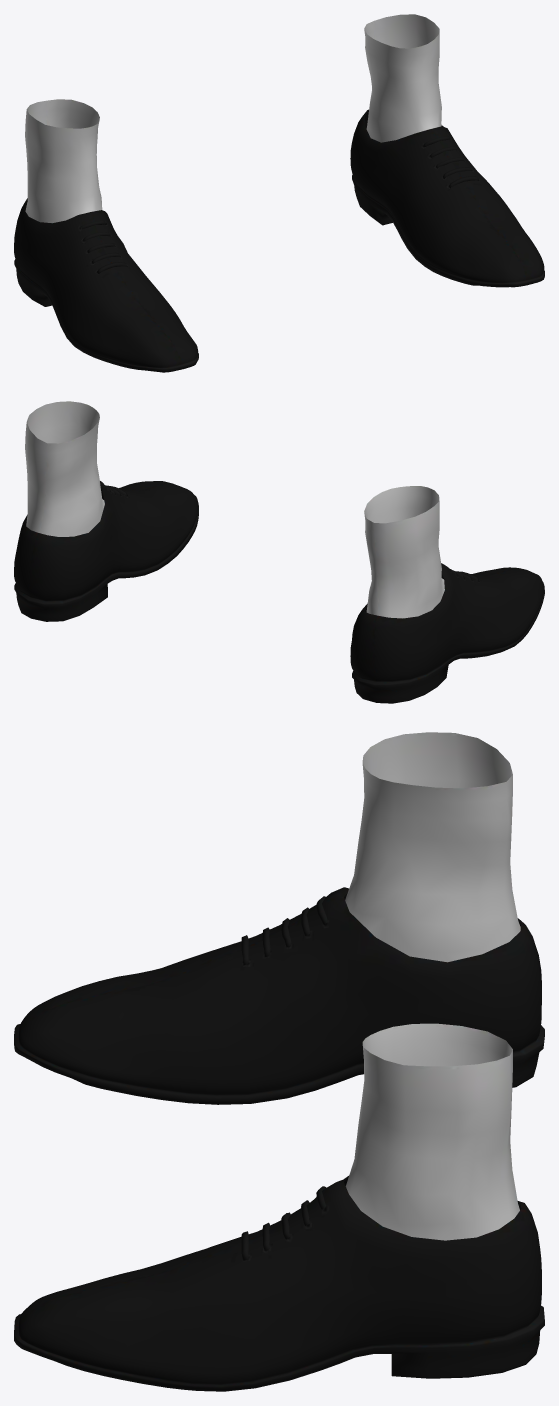
Rendered from mindfront-shoes-oxford-male.glb.
3 views of the same model, one above another, from view 1: azimuth 30°, elevation 25°; view 2: azimuth 150°, elevation 25°; view 3: azimuth 270°, elevation 25° (orthographic). The views are drawn at different scales.
Visible parts, largest first — view 1: Human.mindfront_shoes_oxford_male; view 2: Human.mindfront_shoes_oxford_male; view 3: Human.mindfront_shoes_oxford_male.
Boxes of the visible parts, x1,y1,x2,y2 form: Human.mindfront_shoes_oxford_male: (14, 14, 544, 372); Human.mindfront_shoes_oxford_male: (14, 401, 544, 703); Human.mindfront_shoes_oxford_male: (14, 732, 544, 1391).
Size of the model in its own units: 0.5378 by 0.2115 by 0.3246.
Materials: 1 (1 with a texture image).
